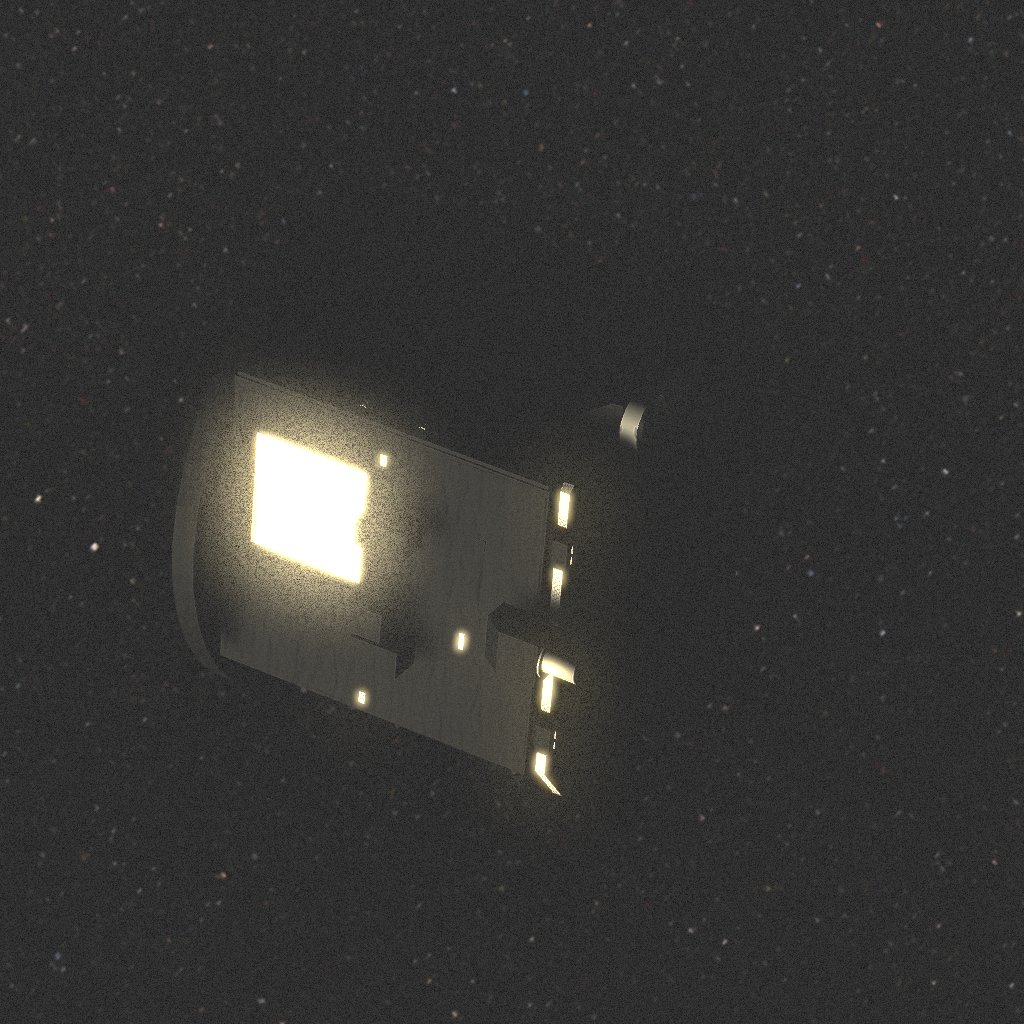proba_3_ocs: (172, 191, 786, 796)
